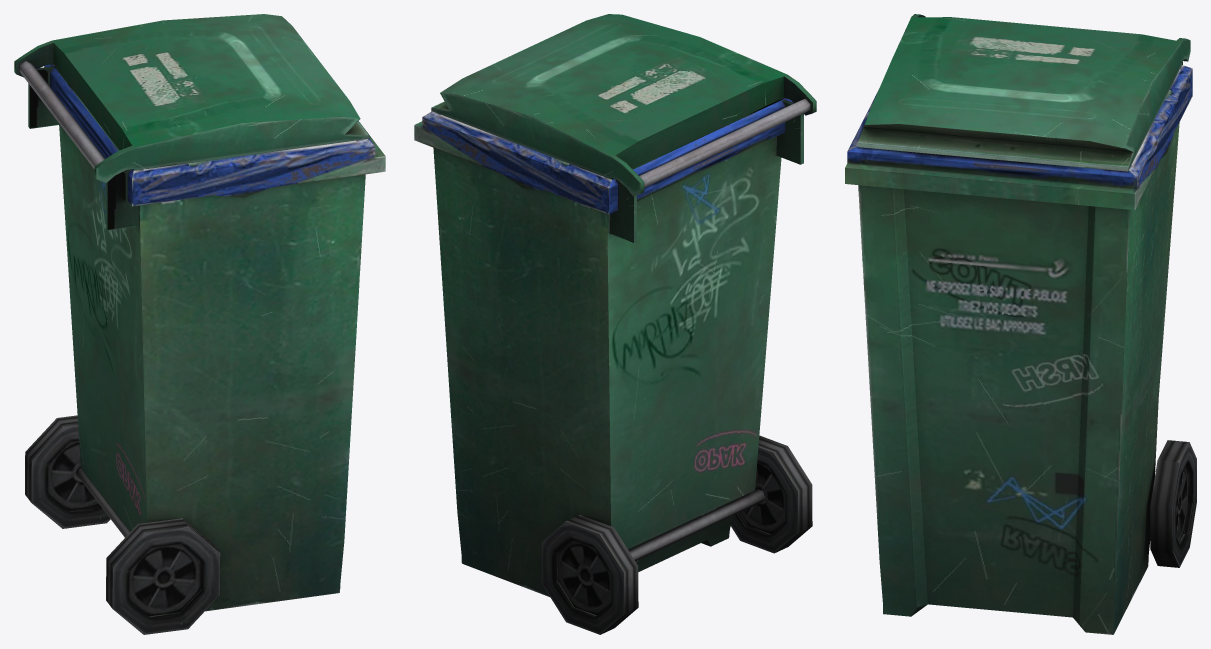
Rendered from poubelle_8.glb.
The picture shows the model from 3 angles, left to right: view 1: azimuth 30°, elevation 25°; view 2: azimuth 150°, elevation 25°; view 3: azimuth 270°, elevation 25°; orthographic projection. The views are drawn at different scales.
Visible parts, largest first — view 1: SM_TrashBin_Material #2_0; view 2: SM_TrashBin_Material #2_0; view 3: SM_TrashBin_Material #2_0.
Part boxes in pixels (x1=…): SM_TrashBin_Material #2_0: x1=14, y1=14, x2=385, y2=634; SM_TrashBin_Material #2_0: x1=414, y1=14, x2=816, y2=634; SM_TrashBin_Material #2_0: x1=845, y1=14, x2=1196, y2=634.
Size of the model in its own units: 0.7162 by 1.11 by 0.6904.
Materials: 1 (1 with a texture image).
